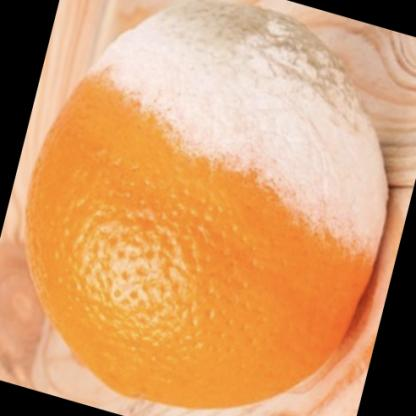rotten: (28, 1, 390, 411)
